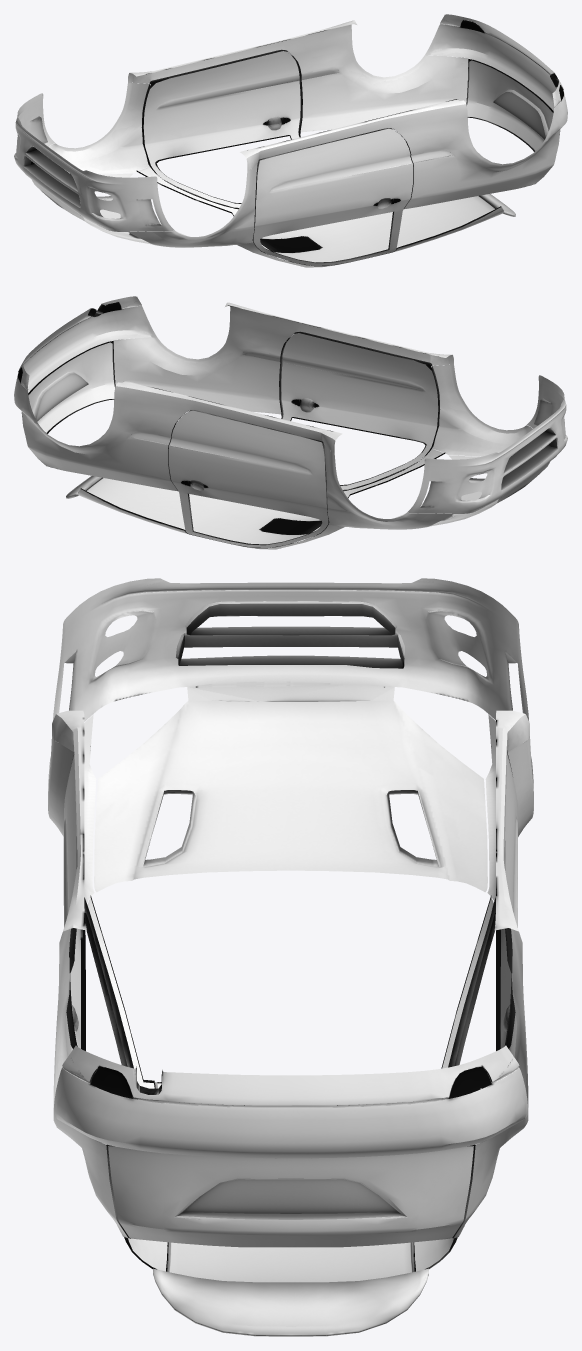
The model's file is FN_body.obj.
The picture shows the model from 3 angles, top to bottom: view 1: azimuth 30°, elevation 25°; view 2: azimuth 150°, elevation 25°; view 3: azimuth 270°, elevation 25°; orthographic projection. The views are drawn at different scales.
Bounding box in the file's own units: 4.06 × 1.3 × 1.76.
1 material, 1 textured.
